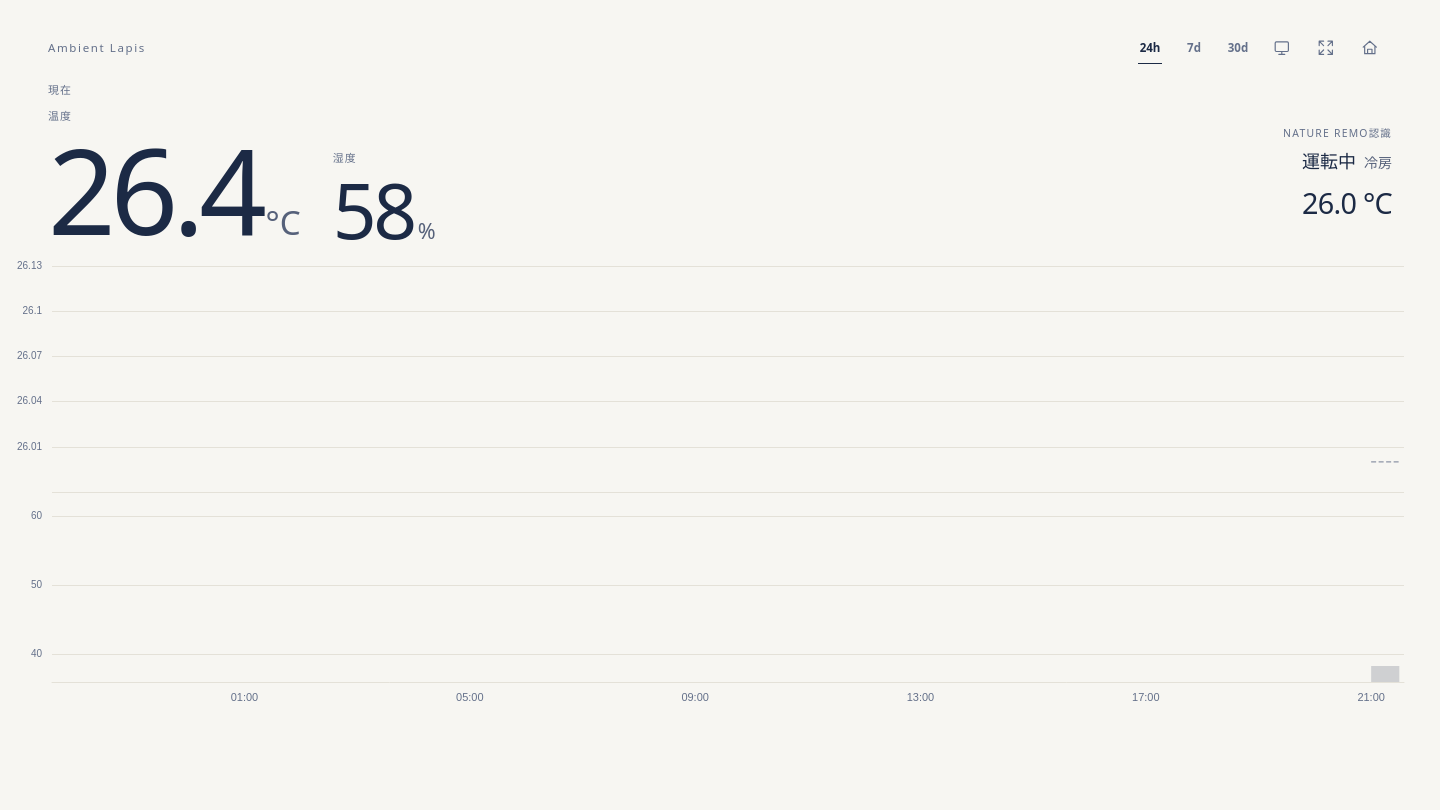
Simple › opens the three-state theme menu and returns focus after selection
Click the button with test id "simple-theme-trigger". click: {"x": 1282, "y": 48}
box: 1260,26 -> 1304,70
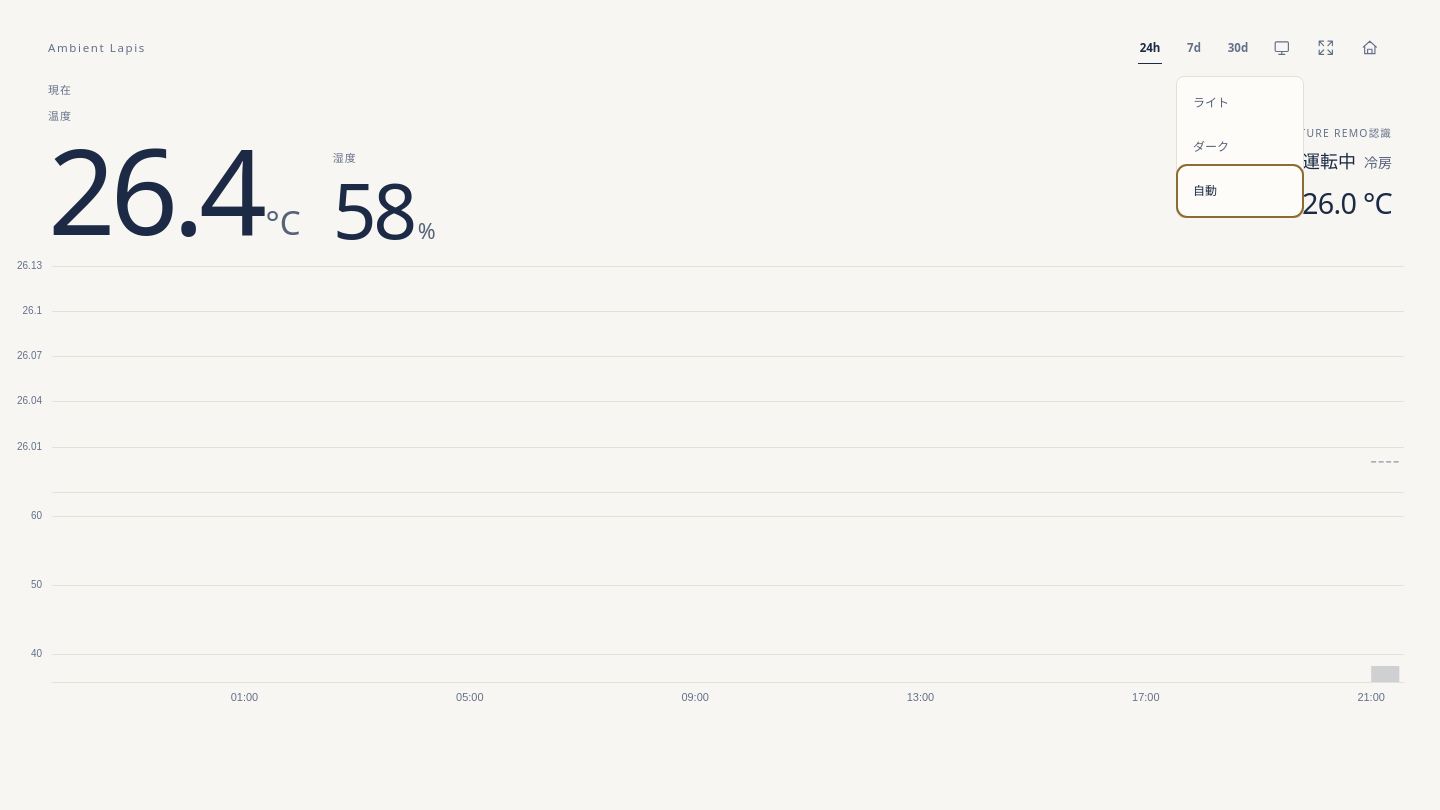
Expected: the menu with test id "simple-theme-menu" is shown, 1176,76 -> 1304,218
Expected: the number of menu items is 3
Click the menu item "ダーク". click: {"x": 1240, "y": 147}
box: 1181,125 -> 1299,169
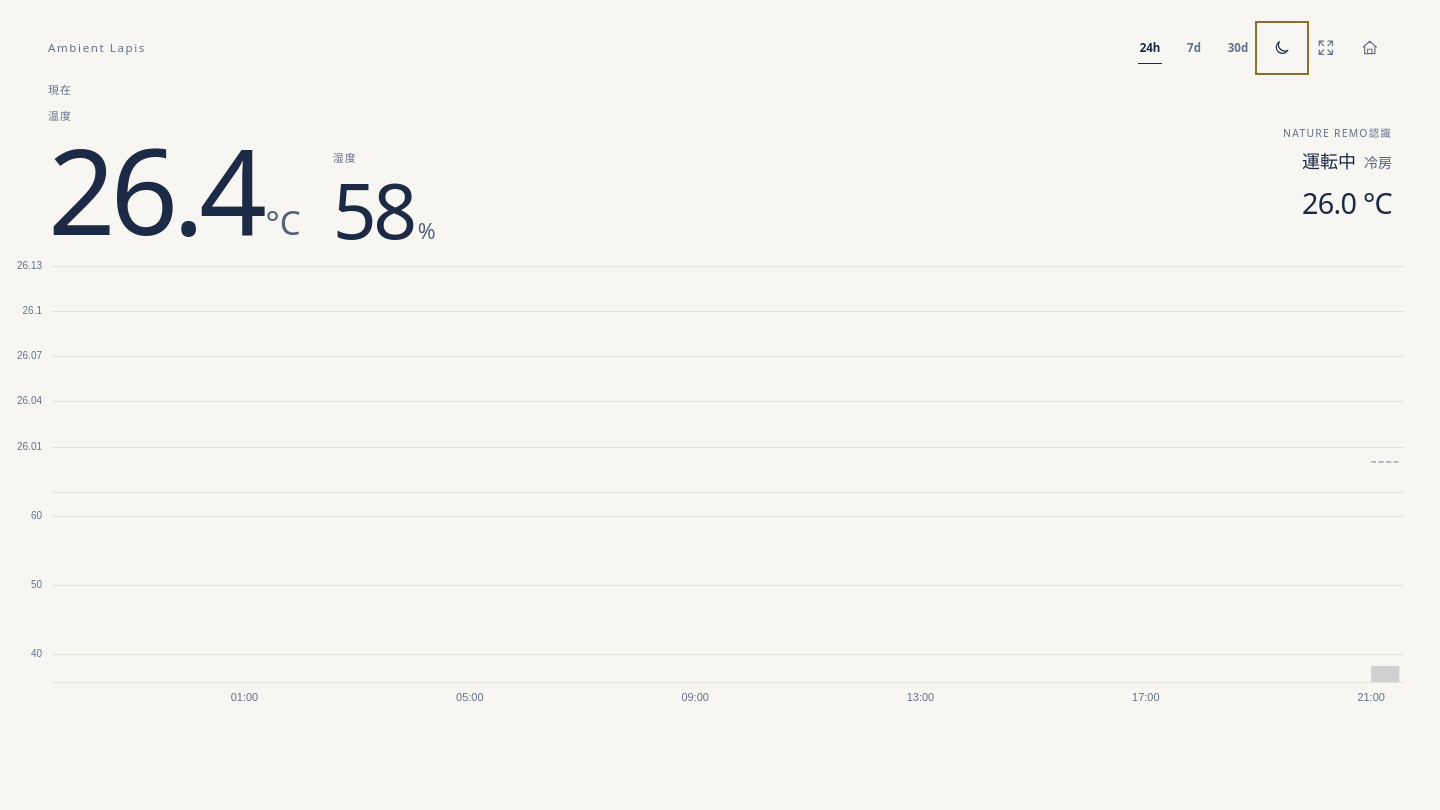
Expected: the menu with test id "simple-theme-menu" is gone
